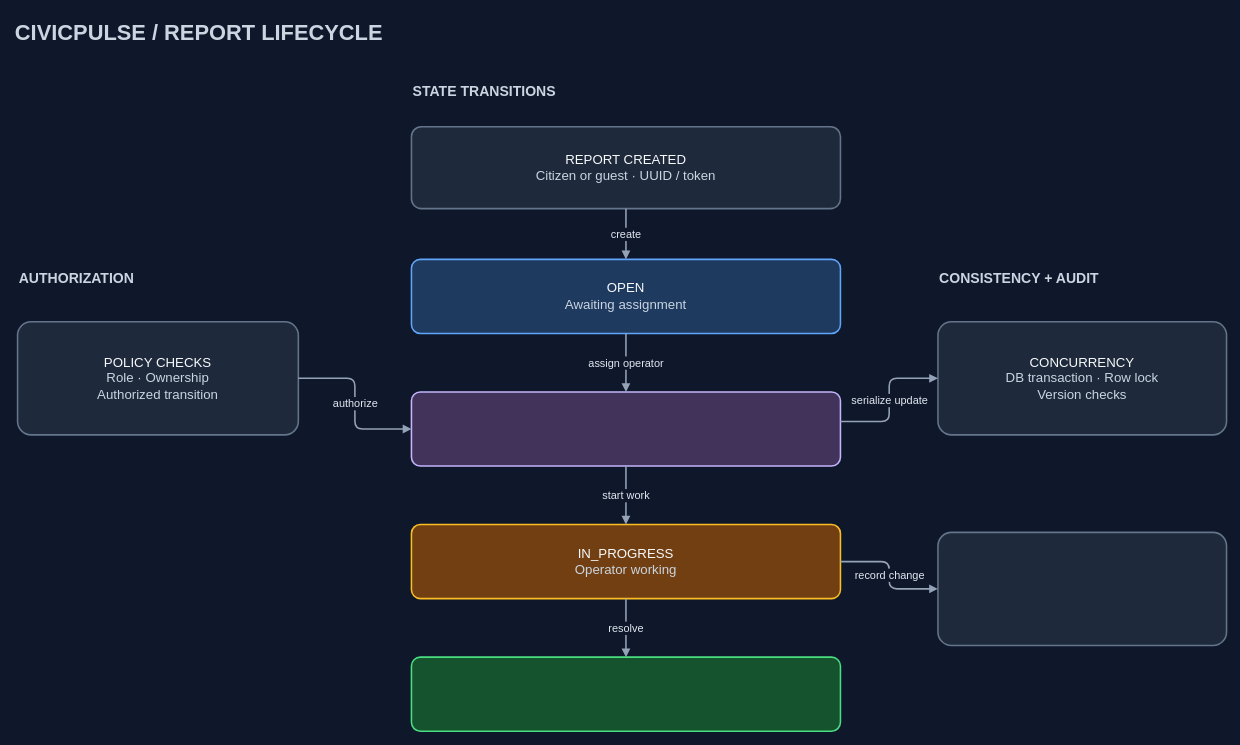
The diagram is 1240 pixels wide and 745 high, and some of its shapes have lost their labels. The centre of each missing label's shape, as x and y in pixels:
"ASSIGNED Operator selected" belongs at point (625, 428).
"AUDIT HISTORY Actor · Status · Timestamp Assignment / transition" belongs at point (1082, 588).
"RESOLVED Work completed" belongs at point (625, 694).
